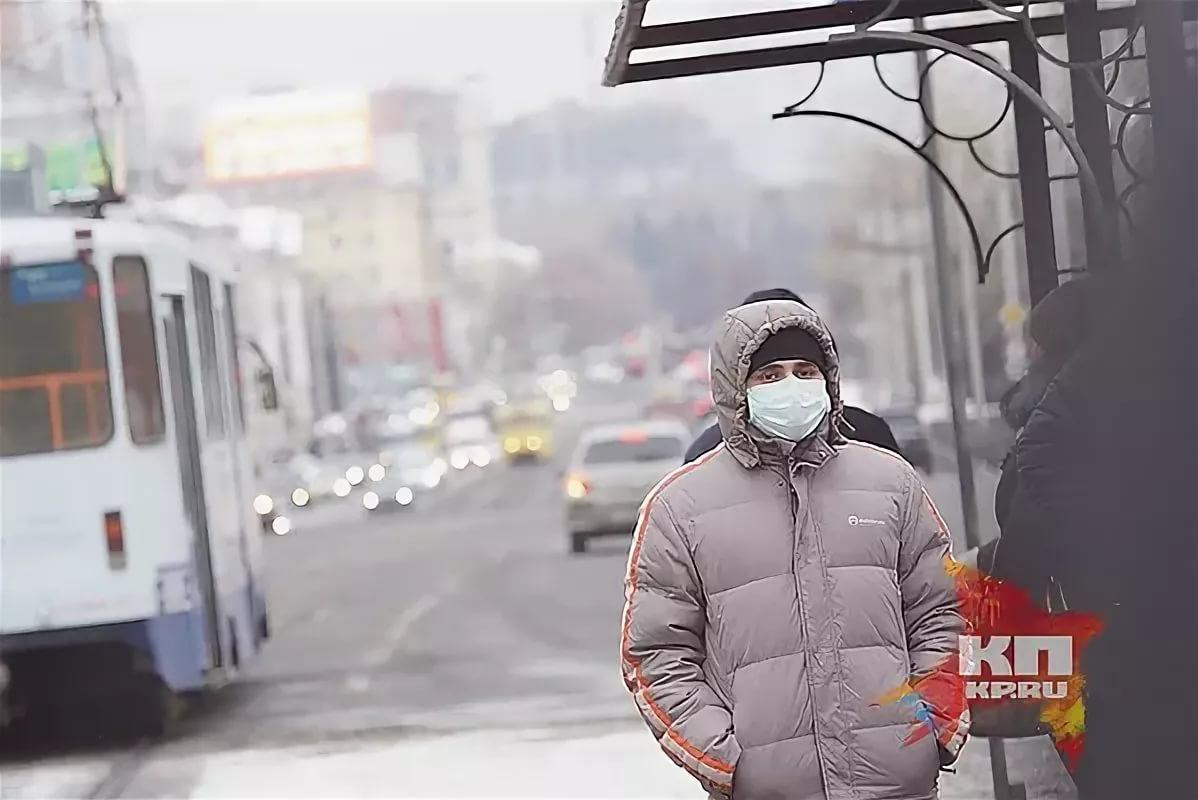mask: (739, 327, 831, 447)
